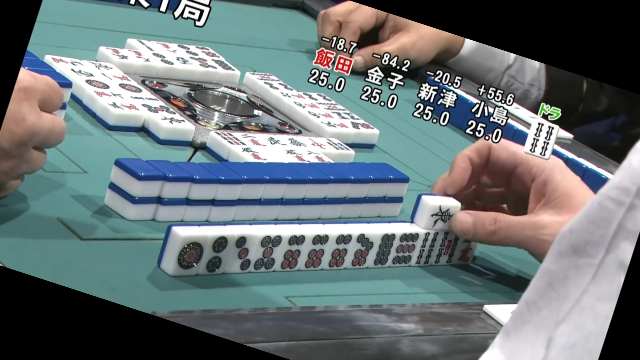Tehai: (172, 222, 478, 279)
